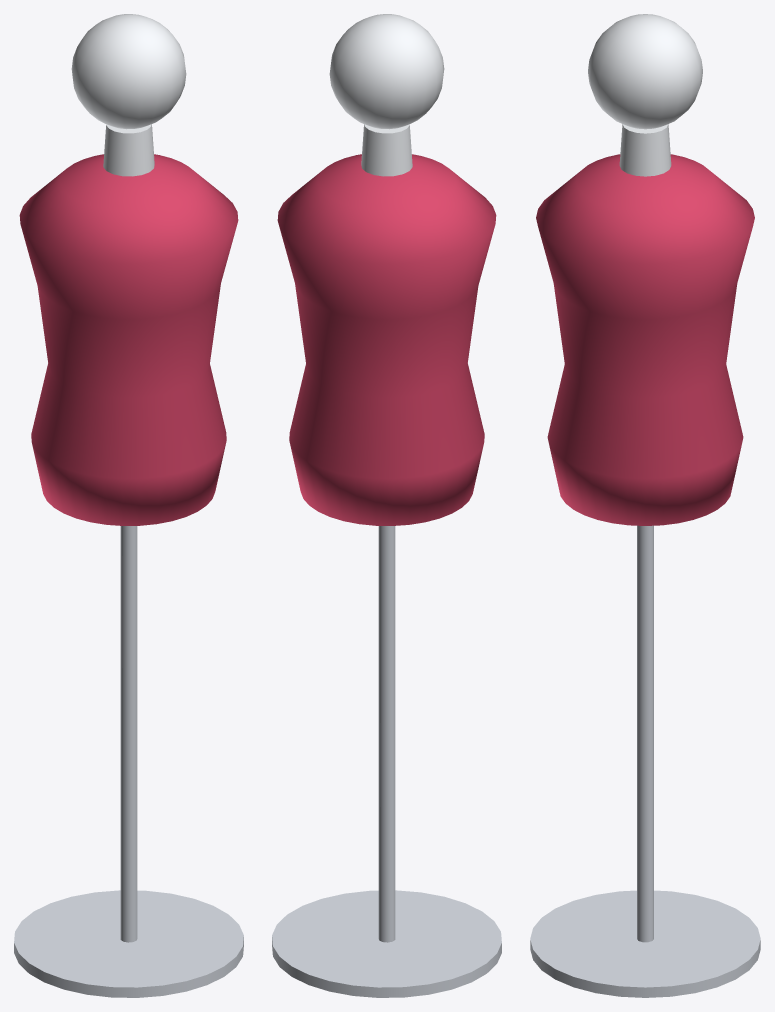
The model's file is mal-009.glb.
The picture shows the model from 3 angles, left to right: view 1: azimuth 30°, elevation 25°; view 2: azimuth 150°, elevation 25°; view 3: azimuth 270°, elevation 25°; orthographic projection.
Parts seen in each view (by area): view 1: brand_fashion, chrome, white; view 2: brand_fashion, chrome, white; view 3: brand_fashion, chrome, white.
Boxes of the visible parts, left/top/right/bottom form: brand_fashion: left=19, top=154, right=238, bottom=525; chrome: left=14, top=526, right=243, bottom=997; white: left=71, top=14, right=186, bottom=176; brand_fashion: left=277, top=154, right=496, bottom=525; chrome: left=272, top=526, right=501, bottom=997; white: left=329, top=14, right=444, bottom=176; brand_fashion: left=536, top=154, right=754, bottom=525; chrome: left=530, top=525, right=760, bottom=997; white: left=588, top=14, right=702, bottom=176.
Size of the model in its own units: 0.4 by 1.78 by 0.4.
